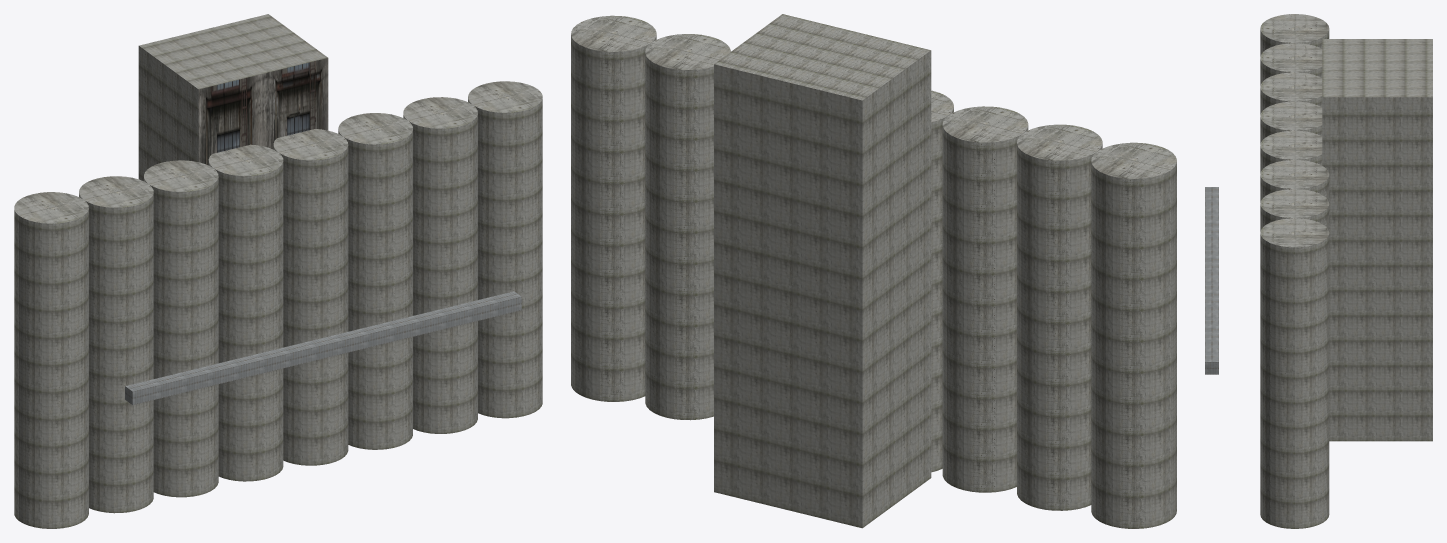
The model's file is riverfront-silos_lod0.gltf.
The picture shows the model from 3 angles, left to right: view 1: azimuth 30°, elevation 25°; view 2: azimuth 150°, elevation 25°; view 3: azimuth 270°, elevation 25°; orthographic projection. The views are drawn at different scales.
Visible parts, largest first — view 1: riverfront-silos_cyl0, riverfront-silos_cyl1, riverfront-silos_cyl7, riverfront-silos_cyl2, riverfront-silos_cyl3, riverfront-silos_cyl4, riverfront-silos_cyl5, riverfront-silos_cyl6, riverfront-silos_headhouse, riverfront-silos_front, riverfront-silos__conveyor; view 2: riverfront-silos_headhouse, riverfront-silos_cyl0, riverfront-silos_cyl2, riverfront-silos_cyl1, riverfront-silos_cyl7, riverfront-silos_cyl6, riverfront-silos_cyl3; view 3: riverfront-silos_headhouse, riverfront-silos_cyl7, riverfront-silos__conveyor, riverfront-silos_cyl6, riverfront-silos_cyl5, riverfront-silos_cyl0, riverfront-silos_cyl3, riverfront-silos_cyl1, riverfront-silos_cyl2, riverfront-silos_cyl4.
Boxes of the visible parts, x1=… form: riverfront-silos_cyl0: x1=14, y1=192, x2=88, y2=528; riverfront-silos_cyl1: x1=79, y1=176, x2=153, y2=513; riverfront-silos_cyl7: x1=468, y1=81, x2=542, y2=418; riverfront-silos_cyl2: x1=144, y1=160, x2=218, y2=497; riverfront-silos_cyl3: x1=208, y1=144, x2=283, y2=481; riverfront-silos_cyl4: x1=273, y1=129, x2=348, y2=465; riverfront-silos_cyl5: x1=338, y1=113, x2=412, y2=449; riverfront-silos_cyl6: x1=403, y1=97, x2=477, y2=433; riverfront-silos_headhouse: x1=138, y1=14, x2=327, y2=181; riverfront-silos_front: x1=198, y1=58, x2=328, y2=165; riverfront-silos__conveyor: x1=125, y1=291, x2=521, y2=404; riverfront-silos_headhouse: x1=714, y1=14, x2=931, y2=528; riverfront-silos_cyl0: x1=1091, y1=142, x2=1176, y2=528; riverfront-silos_cyl2: x1=942, y1=106, x2=1028, y2=492; riverfront-silos_cyl1: x1=1017, y1=124, x2=1102, y2=510; riverfront-silos_cyl7: x1=571, y1=15, x2=656, y2=401; riverfront-silos_cyl6: x1=645, y1=34, x2=730, y2=420; riverfront-silos_cyl3: x1=931, y1=90, x2=953, y2=472; riverfront-silos_headhouse: x1=1322, y1=39, x2=1432, y2=441; riverfront-silos_cyl7: x1=1260, y1=218, x2=1329, y2=528; riverfront-silos__conveyor: x1=1205, y1=187, x2=1218, y2=374; riverfront-silos_cyl6: x1=1260, y1=189, x2=1329, y2=231; riverfront-silos_cyl5: x1=1260, y1=160, x2=1329, y2=202; riverfront-silos_cyl0: x1=1260, y1=14, x2=1329, y2=56; riverfront-silos_cyl3: x1=1260, y1=101, x2=1322, y2=144; riverfront-silos_cyl1: x1=1260, y1=43, x2=1322, y2=85; riverfront-silos_cyl2: x1=1260, y1=72, x2=1322, y2=114; riverfront-silos_cyl4: x1=1260, y1=130, x2=1322, y2=173.
Size of the model in its own units: 80 by 55 by 33.
